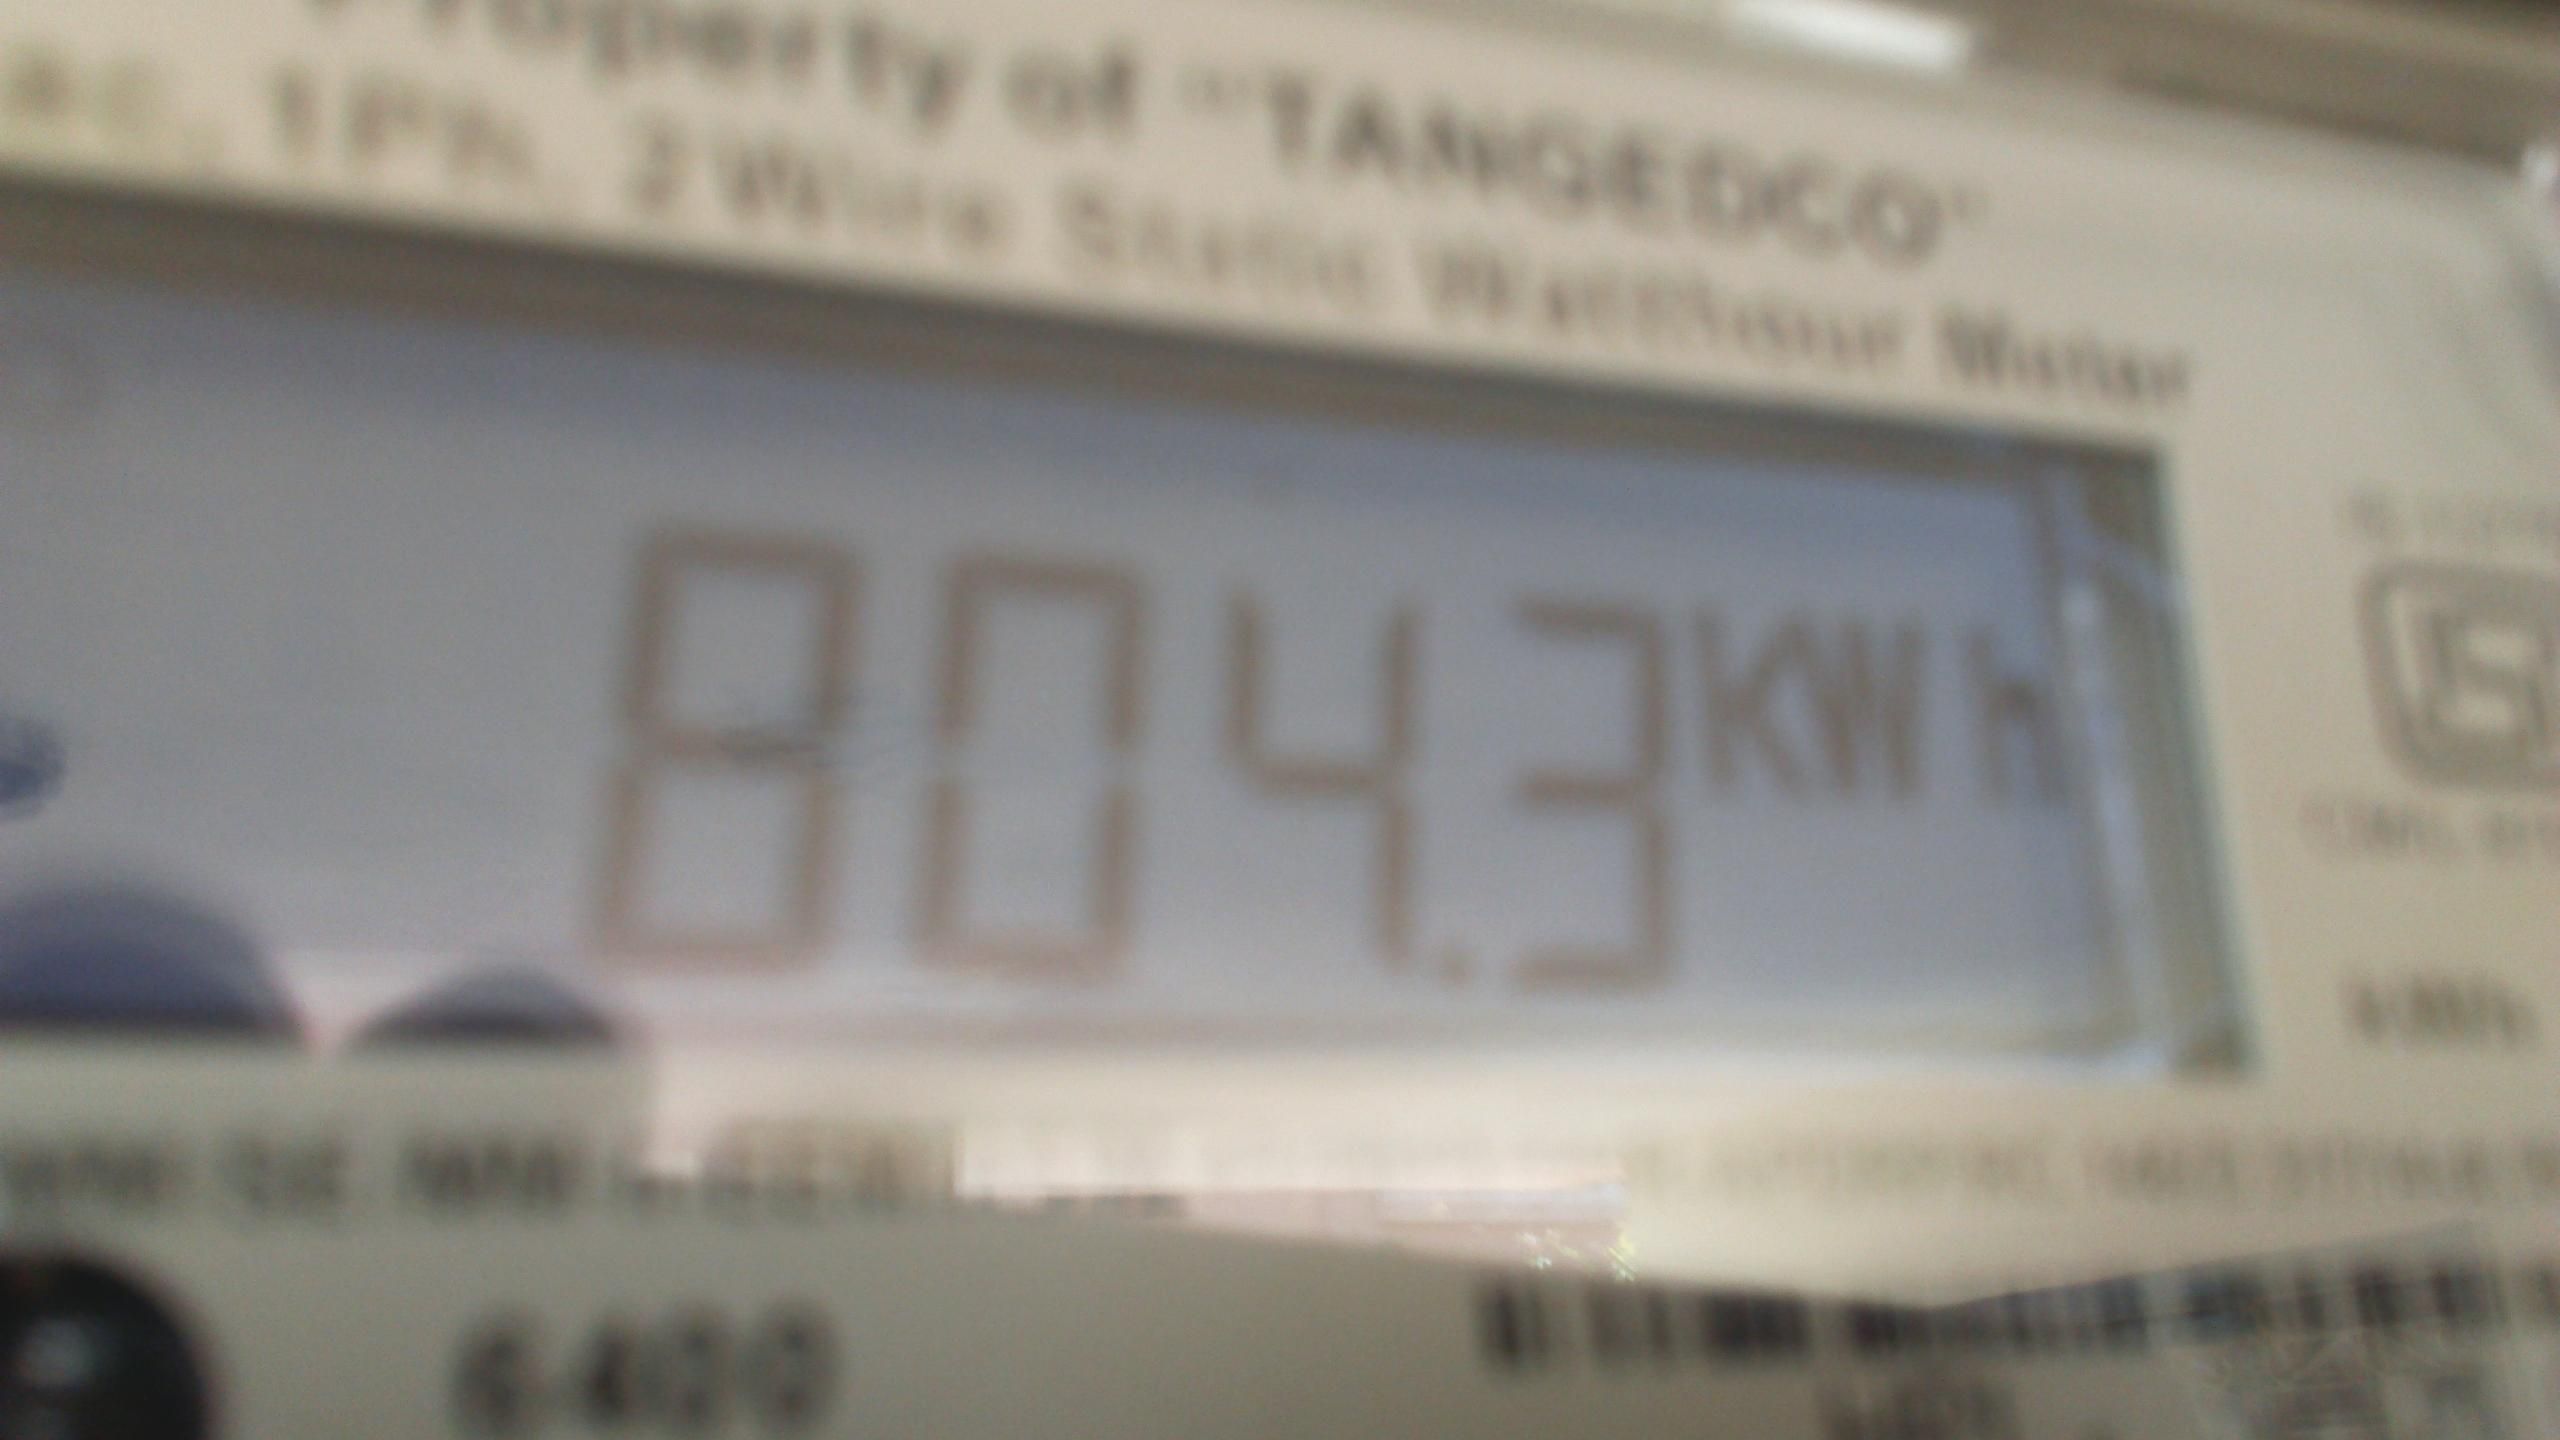.: (1681, 589, 2113, 858)
0: (1412, 888, 1524, 1016)
1: (927, 498, 1178, 988)
4: (1502, 533, 1716, 1022)
5: (1201, 554, 1422, 1032)
9: (564, 484, 907, 999)
